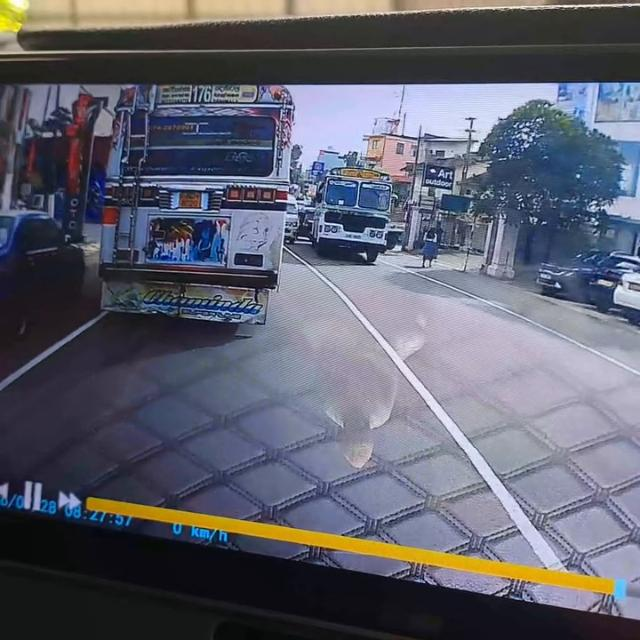number plate: (171, 183, 211, 213)
